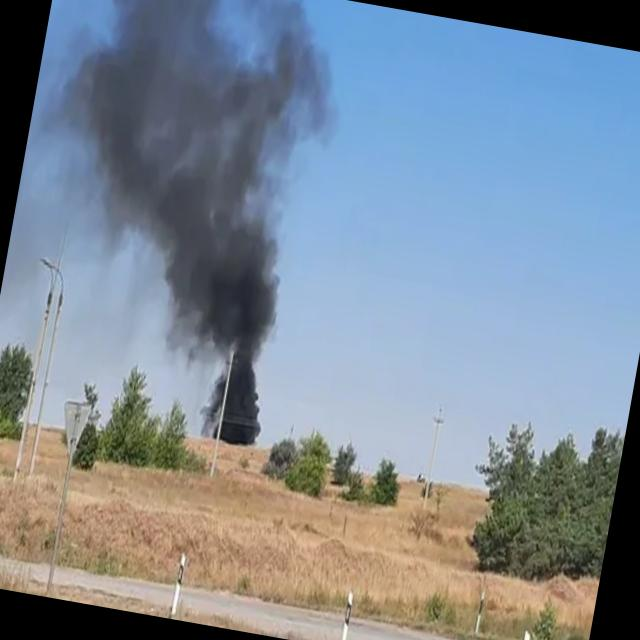Smoke: (70, 0, 336, 447)
